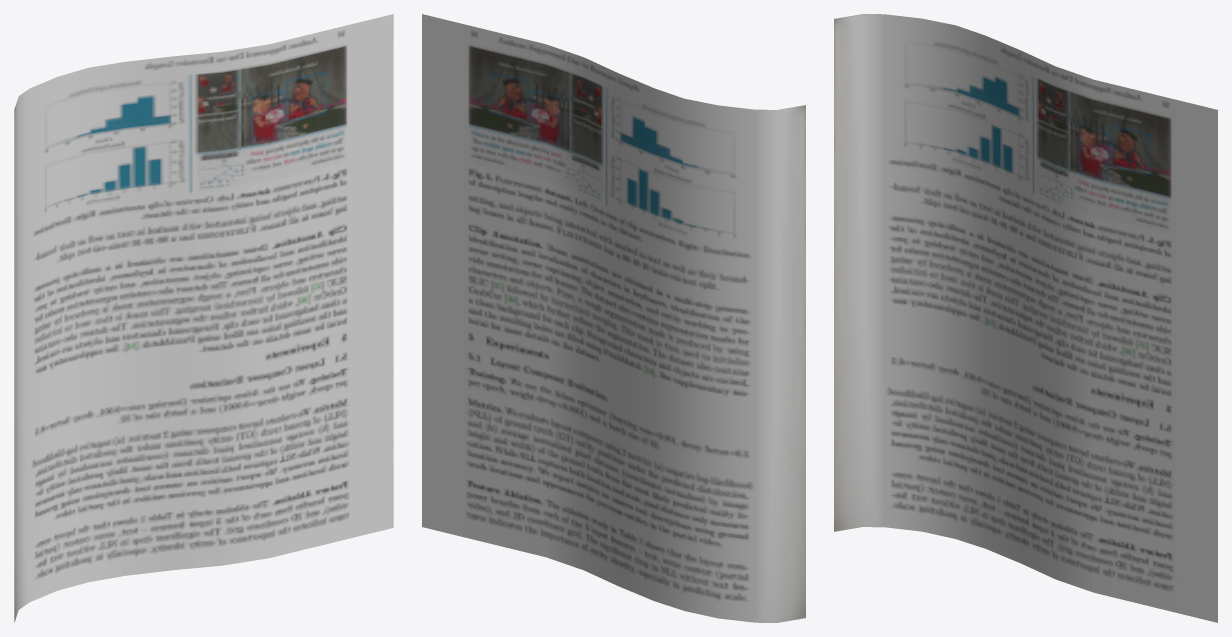
Rendered from MeshRobothorBookFront_3_1_GeomSubset_2.obj.
3 views of the same model, side by side, from view 1: azimuth 30°, elevation 25°; view 2: azimuth 150°, elevation 25°; view 3: azimuth 330°, elevation 25° (orthographic).
Visible parts, largest first — view 1: MeshRobothorBookFront_3_1_GeomSubset_2; view 2: MeshRobothorBookFront_3_1_GeomSubset_2; view 3: MeshRobothorBookFront_3_1_GeomSubset_2.
Boxes of the visible parts, box(x1,y1,x2,y2) form: MeshRobothorBookFront_3_1_GeomSubset_2: box(14, 14, 393, 622); MeshRobothorBookFront_3_1_GeomSubset_2: box(422, 14, 805, 622); MeshRobothorBookFront_3_1_GeomSubset_2: box(834, 14, 1217, 622).
Size of the model in its own units: 0.1732 by 0.2228 by 0.0187.
